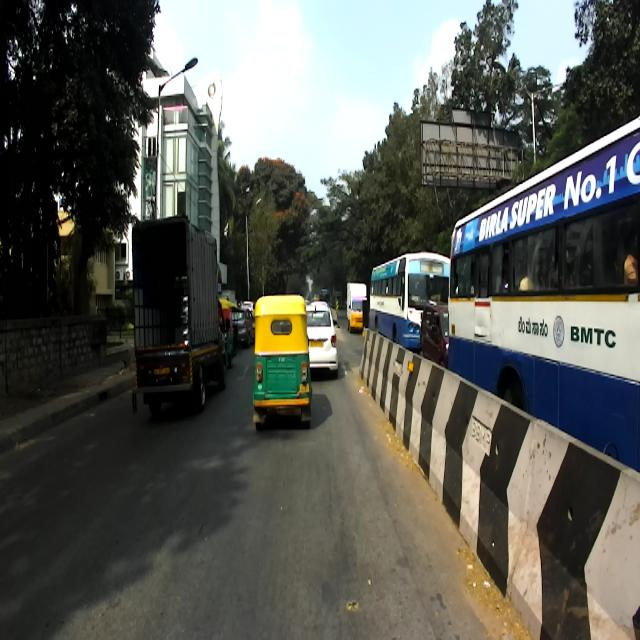auto ahead at: (253, 297, 311, 418)
truck ahead at: (130, 210, 228, 410)
